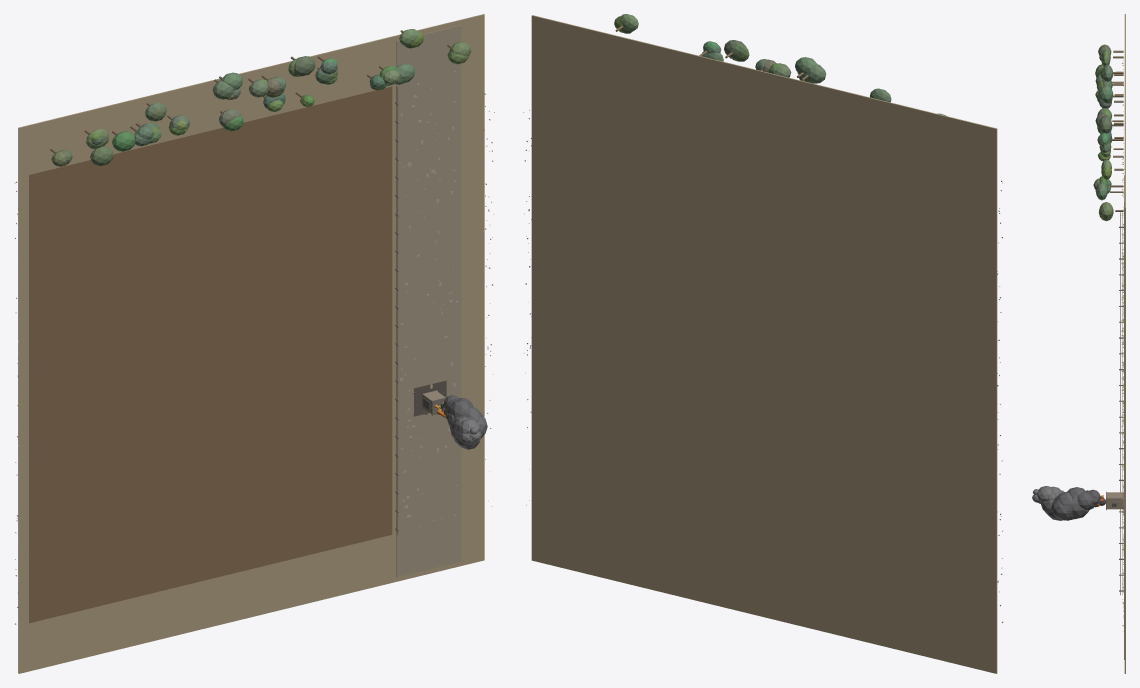
File: unplowed_farm_field.glb
The picture shows the model from 3 angles, left to right: view 1: azimuth 30°, elevation 25°; view 2: azimuth 150°, elevation 25°; view 3: azimuth 270°, elevation 25°; orthographic projection. The views are drawn at different scales.
Visible parts, largest first — view 1: Detailed plowed soil with parallel furrows, Underlying dry ground, Dirt access track, Fence rail 1.08; view 2: Underlying dry ground; view 3: Underlying dry ground, Dirt access track, Fence rail 1.08, Fence rail 0.62, Rusty agricultural pump cabinet, Black smoke volume 23, Black smoke volume 19, Black smoke volume 12, Black smoke volume 15, Tree canopy 2-1, Tree canopy 16-1, Black smoke volume 33 (+1 smaller).
Part boxes in pixels (left/top/right/bottom): Detailed plowed soil with parallel furrows: left=29, top=86, right=392, bottom=623; Underlying dry ground: left=18, top=14, right=484, bottom=673; Dirt access track: left=396, top=25, right=461, bottom=577; Fence rail 1.08: left=397, top=87, right=398, bottom=535; Underlying dry ground: left=531, top=15, right=997, bottom=673; Underlying dry ground: left=1124, top=14, right=1125, bottom=673; Dirt access track: left=1124, top=175, right=1124, bottom=659; Fence rail 1.08: left=1120, top=212, right=1120, bottom=595; Fence rail 0.62: left=1122, top=212, right=1122, bottom=594; Rusty agricultural pump cabinet: left=1106, top=492, right=1123, bottom=509; Black smoke volume 23: left=1051, top=500, right=1071, bottom=520; Black smoke volume 19: left=1054, top=492, right=1074, bottom=520; Black smoke volume 12: left=1077, top=492, right=1092, bottom=509; Black smoke volume 15: left=1071, top=497, right=1088, bottom=518; Tree canopy 2-1: left=1098, top=115, right=1111, bottom=133; Tree canopy 16-1: left=1099, top=202, right=1113, bottom=218; Black smoke volume 33: left=1037, top=486, right=1051, bottom=502.
Bounding box in the file's own units: 103 × 115 × 20.45.
